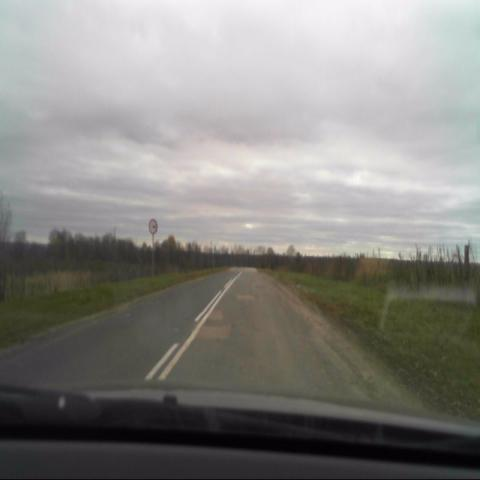3_20: (147, 217, 160, 236)
